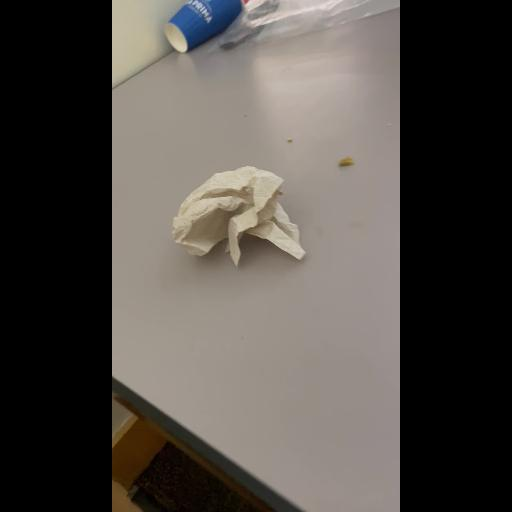napkin: (171, 166, 303, 266)
